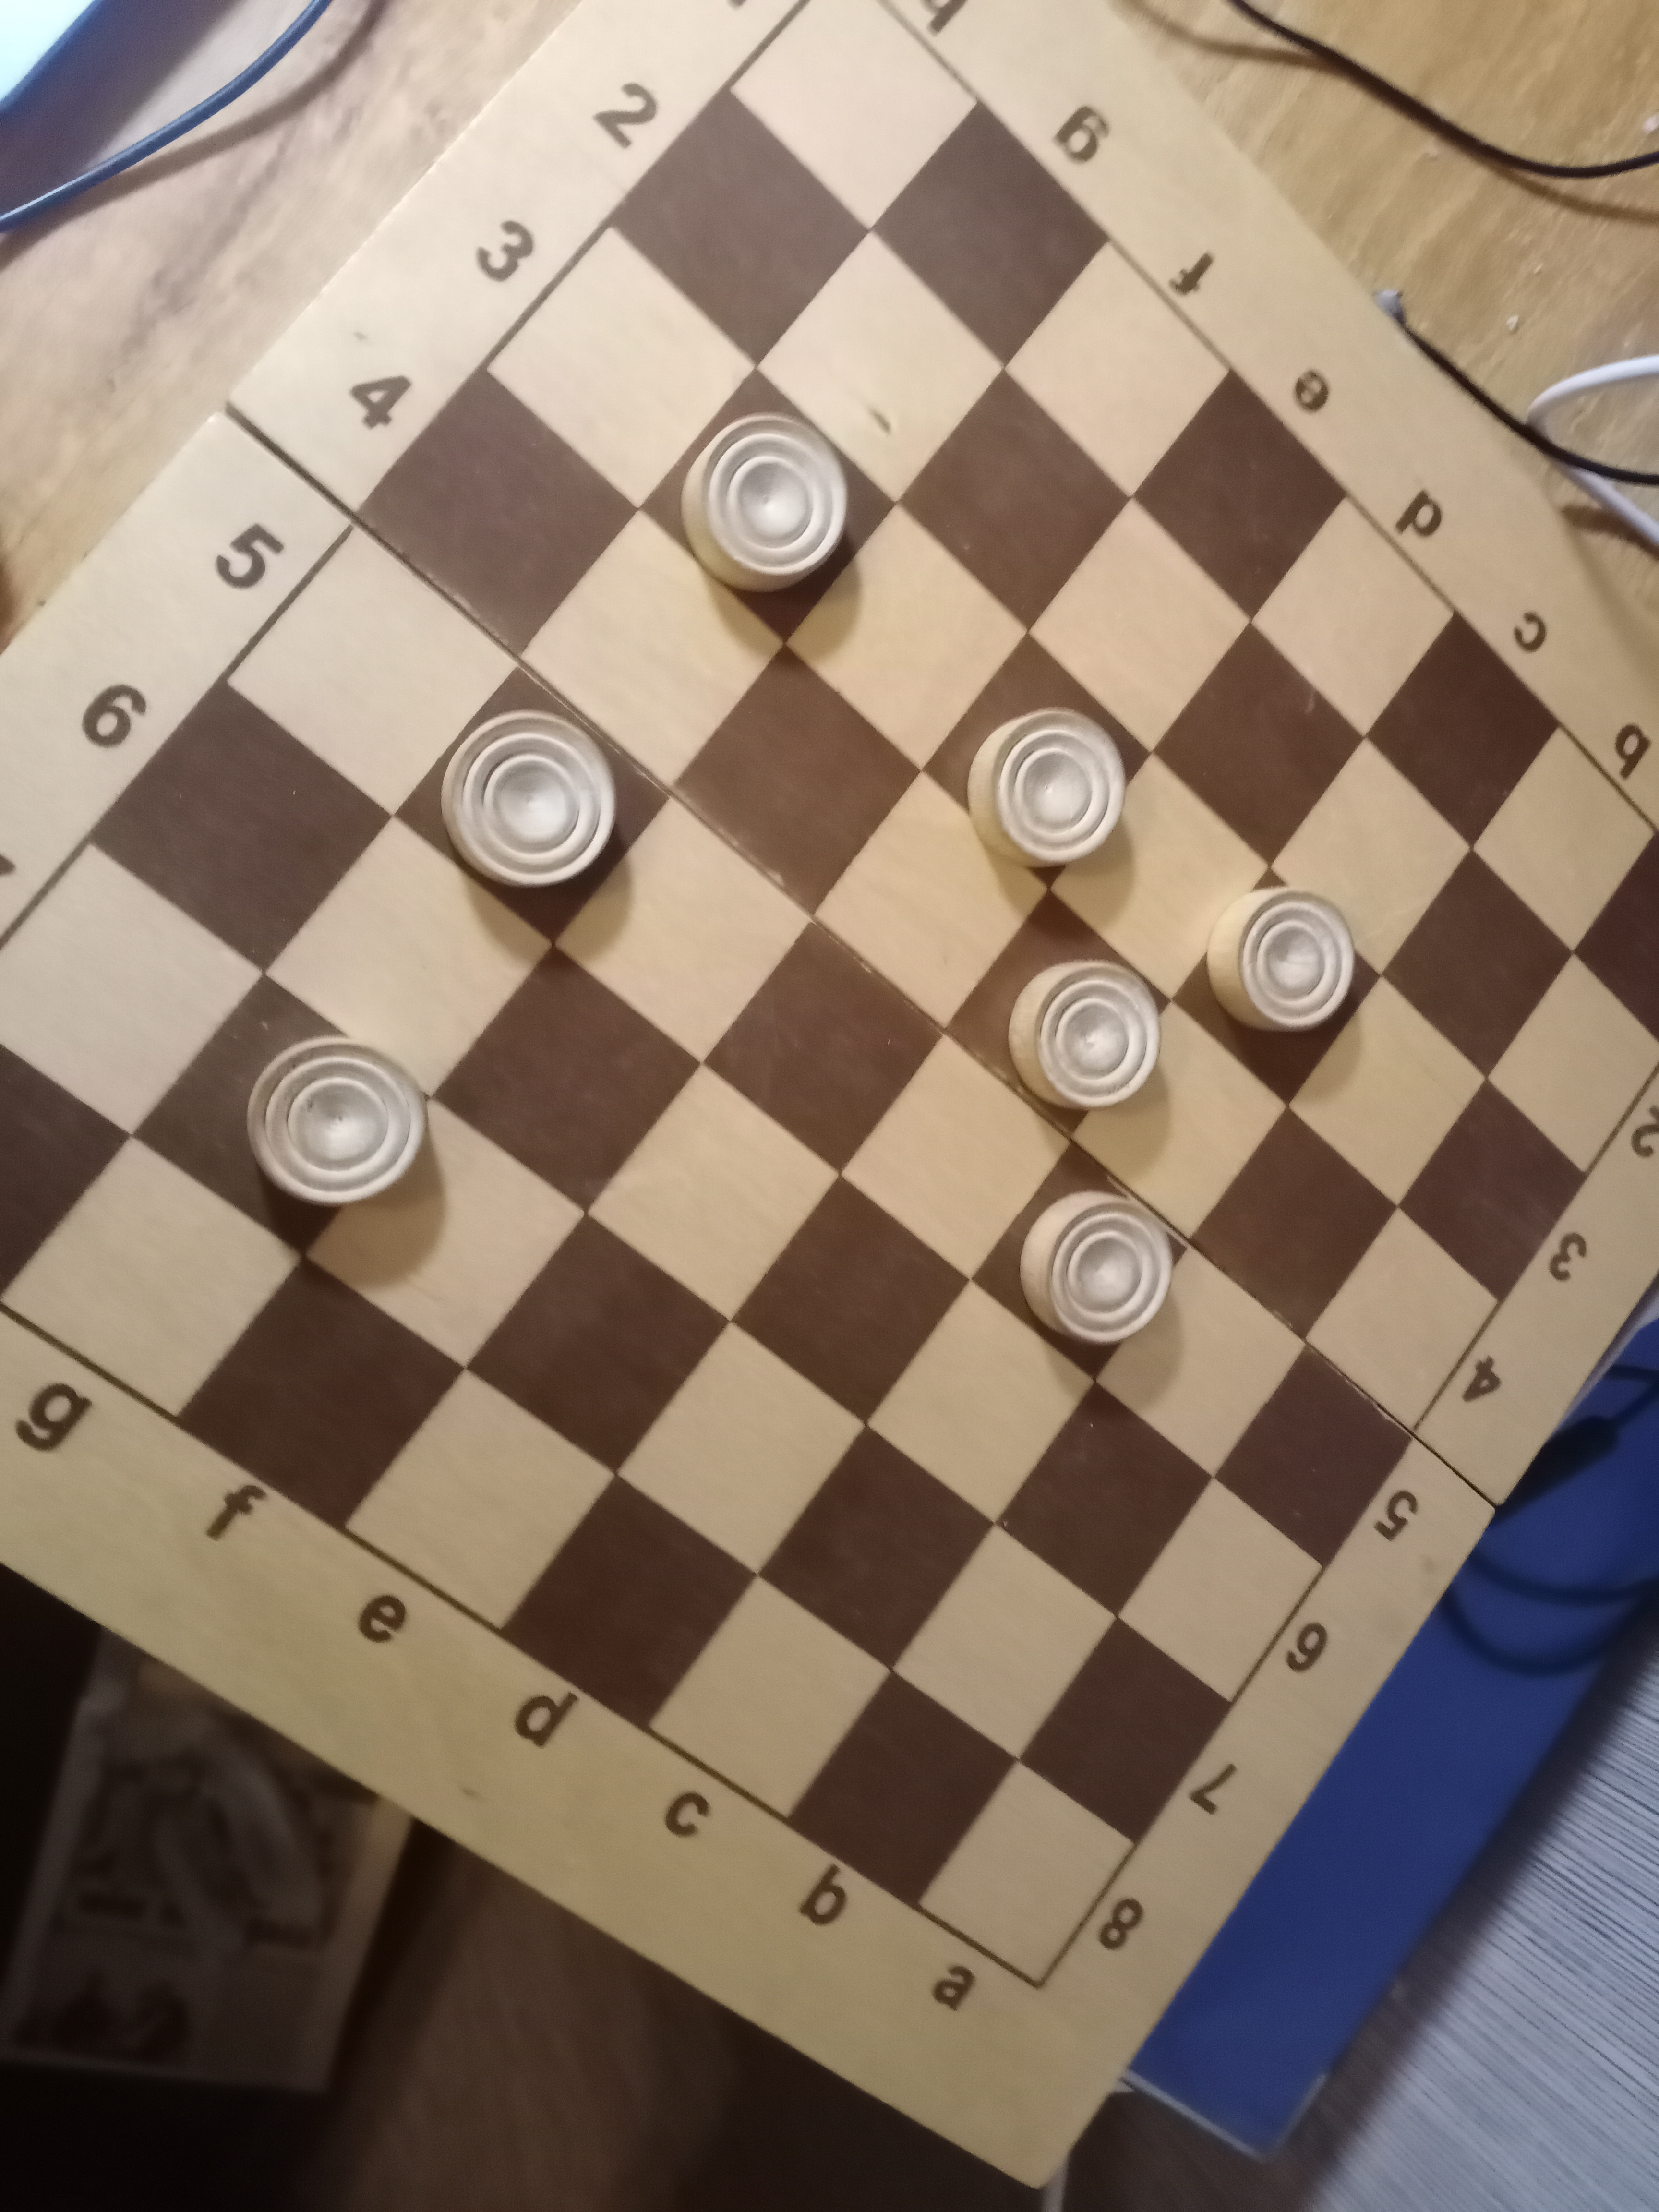White_Draught: (132, 974, 432, 1258), (392, 667, 669, 944), (640, 369, 897, 641), (922, 632, 1154, 888), (945, 890, 1173, 1136), (971, 1136, 1187, 1379), (1173, 867, 1384, 1104)
